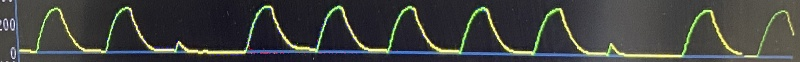normal_volume: (16, 2, 755, 62)
